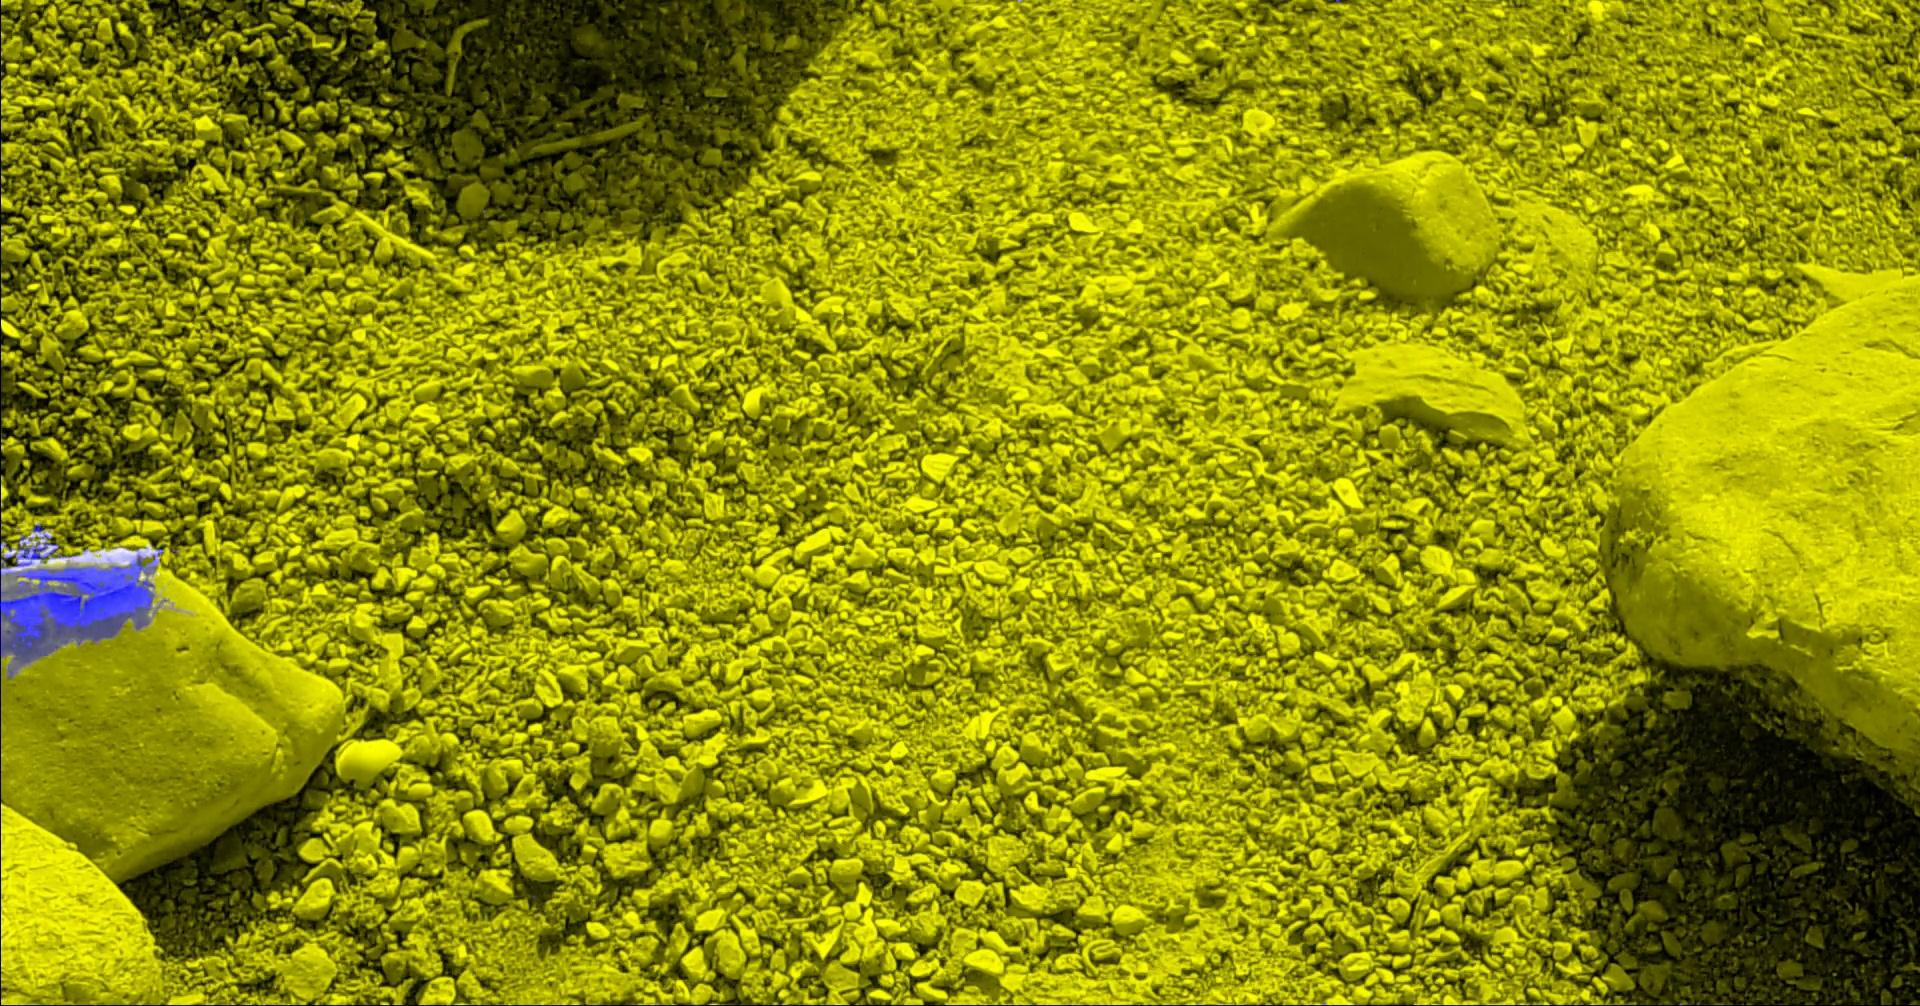ant: (0, 540, 29, 573), (17, 535, 58, 558)
